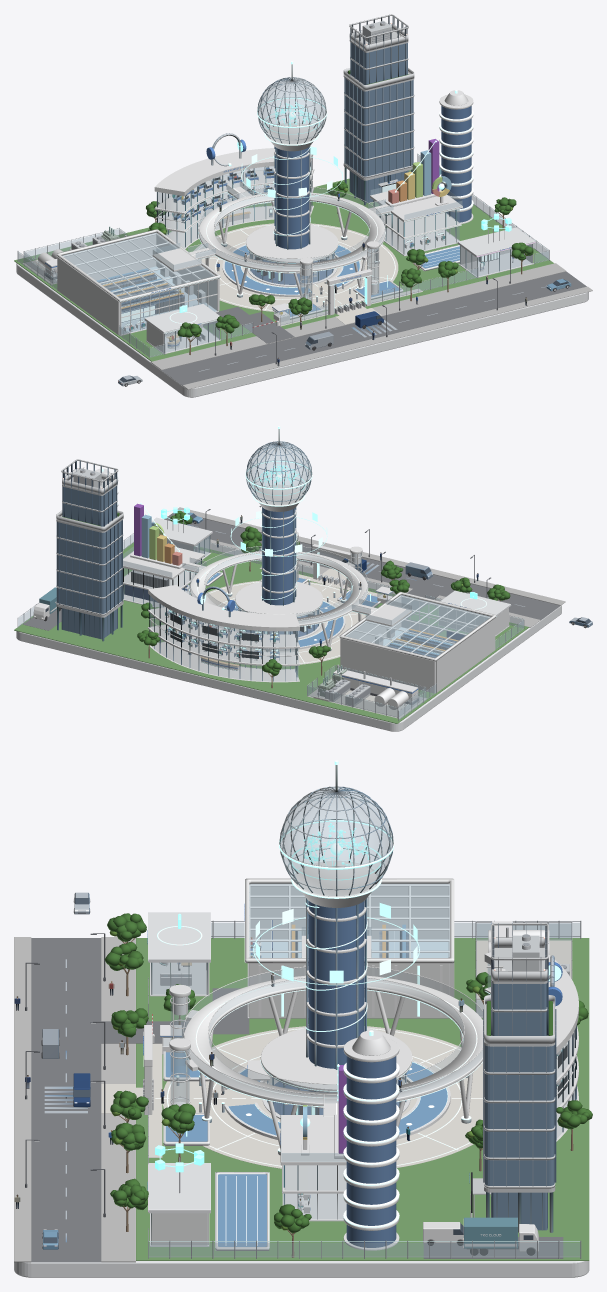
Rendered from smart_cloud.glb.
3 views of the same model, one above another, from view 1: azimuth 30°, elevation 25°; view 2: azimuth 150°, elevation 25°; view 3: azimuth 270°, elevation 25° (orthographic). The views are drawn at different scales.
Parts seen in each view (by area): view 1: bake-static_site, bake-static_building, glass-static_building-glass, bake-hot-erp, bake-hot-big-data, bake-hot-ai-services, bake-static_tower, vbake-static_site, glass-hot-ai-services-glass, glass-static_tower-glass, glass-static_site-glass, vbake-static_building (+18 smaller); view 2: bake-static_site, bake-static_building, bake-hot-erp, bake-static_tower, glass-static_building-glass, glass-static_tower-glass, bake-hot-ai-services, vbake-static_site, bake-hot-big-data, glass-hot-ai-services-glass, vbake-hot-erp, glass-static_site-glass (+15 smaller); view 3: bake-static_site, bake-static_building, bake-hot-erp, bake-hot-big-data, glass-static_building-glass, bake-hot-ai-services, vbake-static_site, glass-hot-ai-services-glass, glass-static_site-glass, vbake-hot-ai-services, vbake-static_building, bake-hot-blockchain (+16 smaller).
Boxes of the visible parts, left/top/right/bottom form: bake-static_site: left=14, top=154, right=592, bottom=397; bake-static_building: left=56, top=186, right=393, bottom=335; glass-static_building-glass: left=62, top=182, right=393, bottom=333; bake-hot-erp: left=343, top=14, right=441, bottom=203; bake-hot-big-data: left=370, top=90, right=473, bottom=271; bake-hot-ai-services: left=246, top=122, right=338, bottom=286; bake-static_tower: left=154, top=148, right=314, bottom=249; vbake-static_site: left=17, top=153, right=549, bottom=371; glass-hot-ai-services-glass: left=251, top=77, right=334, bottom=284; glass-static_tower-glass: left=157, top=160, right=311, bottom=247; glass-static_site-glass: left=18, top=155, right=548, bottom=357; vbake-static_building: left=63, top=181, right=393, bottom=334; bake-static_site: left=14, top=507, right=565, bottom=731; bake-static_building: left=183, top=531, right=495, bottom=693; bake-hot-erp: left=33, top=459, right=123, bottom=639; bake-static_tower: left=148, top=584, right=299, bottom=682; glass-static_building-glass: left=182, top=538, right=490, bottom=657; glass-static_tower-glass: left=150, top=596, right=298, bottom=681; bake-hot-ai-services: left=235, top=484, right=323, bottom=638; vbake-static_site: left=17, top=506, right=524, bottom=721; bake-hot-big-data: left=95, top=468, right=222, bottom=607; glass-hot-ai-services-glass: left=239, top=442, right=319, bottom=636; vbake-hot-erp: left=35, top=460, right=122, bottom=641; glass-static_site-glass: left=18, top=534, right=523, bottom=719; bake-static_site: left=14, top=921, right=589, bottom=1277; bake-static_building: left=169, top=878, right=482, bottom=1149; bake-hot-erp: left=423, top=923, right=555, bottom=1251; bake-hot-big-data: left=215, top=1030, right=399, bottom=1250; glass-static_building-glass: left=170, top=884, right=482, bottom=1105; bake-hot-ai-services: left=247, top=860, right=412, bottom=1118; vbake-static_site: left=25, top=913, right=592, bottom=1258; glass-hot-ai-services-glass: left=267, top=787, right=405, bottom=1114; glass-static_site-glass: left=149, top=923, right=579, bottom=1257; vbake-hot-ai-services: left=247, top=765, right=406, bottom=1114; vbake-static_building: left=170, top=884, right=482, bottom=1155; bake-hot-blockchain: left=148, top=1163, right=210, bottom=1246.
Size of the model in its own units: 99.57 by 44.9 by 66.4.
